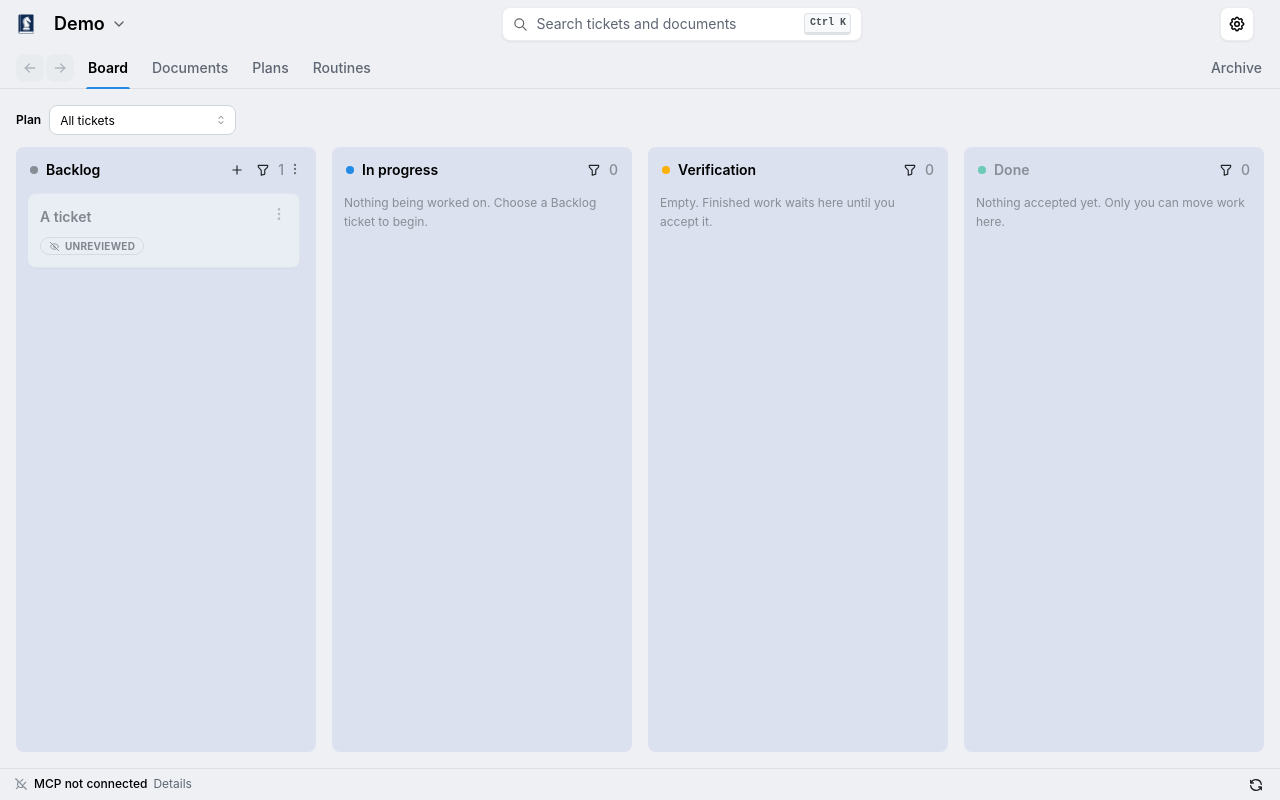
Scenario: removing an entry › removes the entry the manifest holds, not the document path
Expected: the text "A ticket" is shown, [40, 208, 91, 225]
Click the tab "Documents": (190, 68) [150, 48, 230, 88]
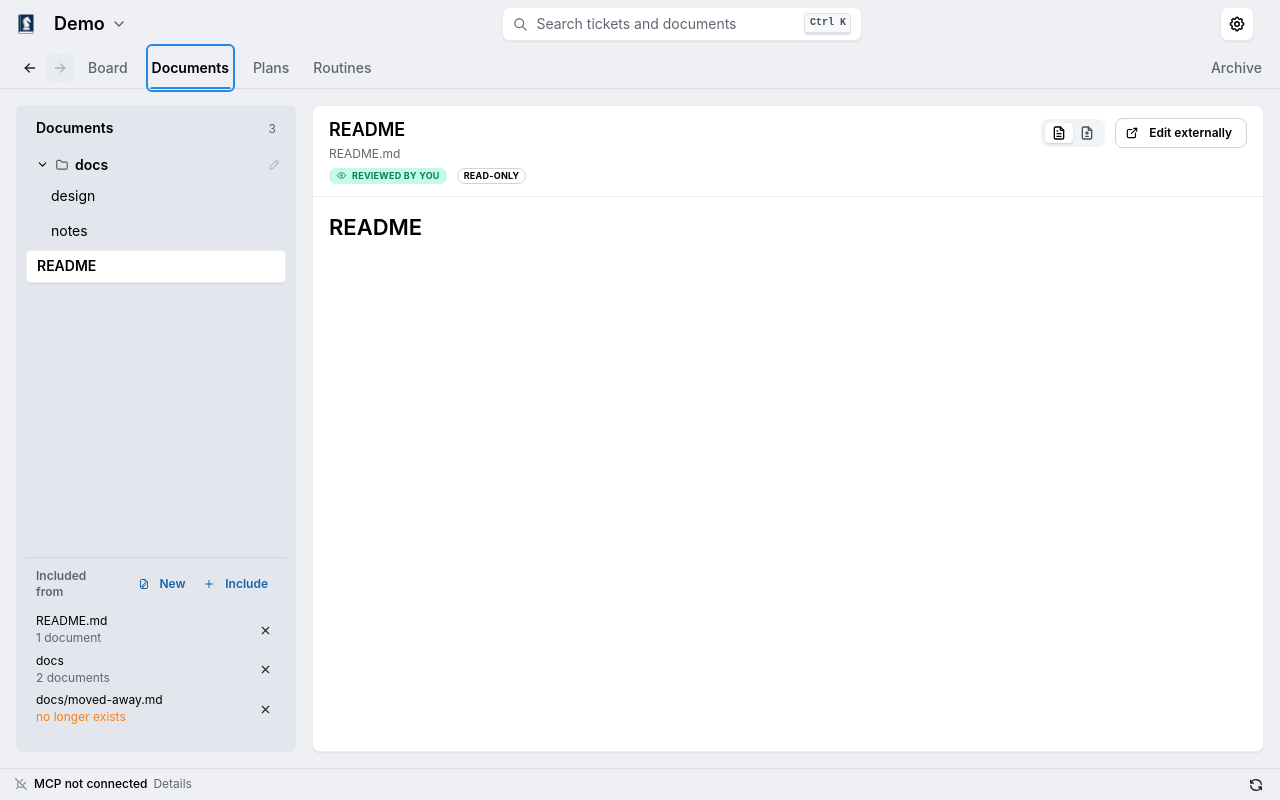
Now the text "Included from" is shown, box [36, 568, 86, 599]
Click the button named "Remove docs from this workspace": (265, 670) [254, 659, 276, 681]
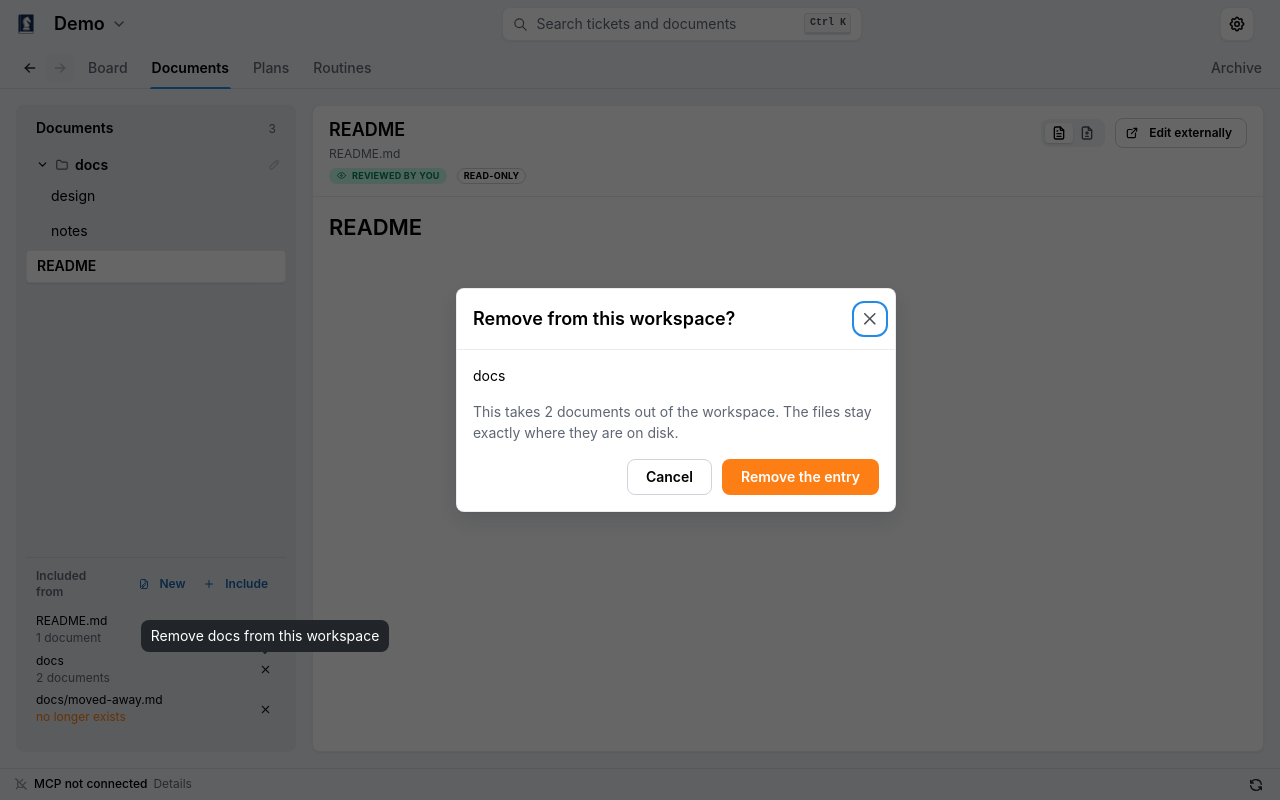
Click the button "Remove the entry": (800, 477) [722, 459, 879, 495]
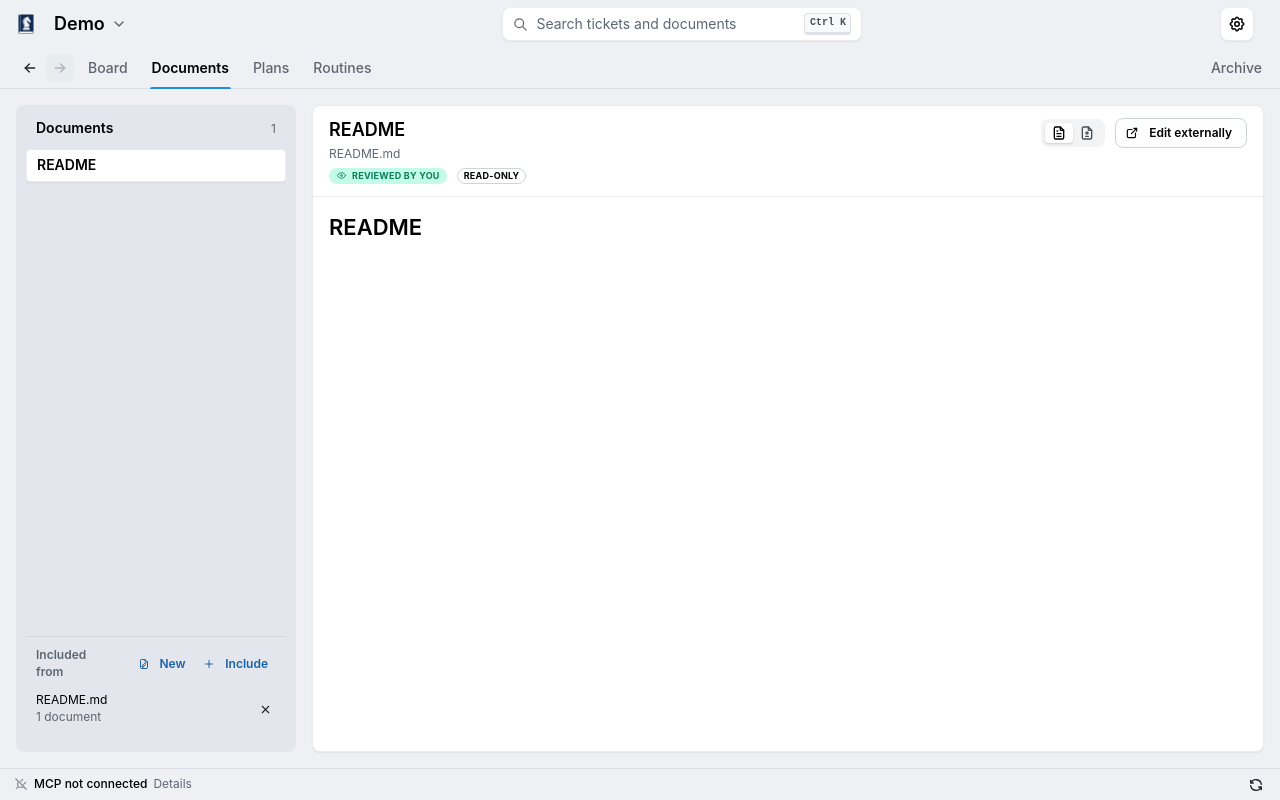
Now the text "2 documents" is gone
